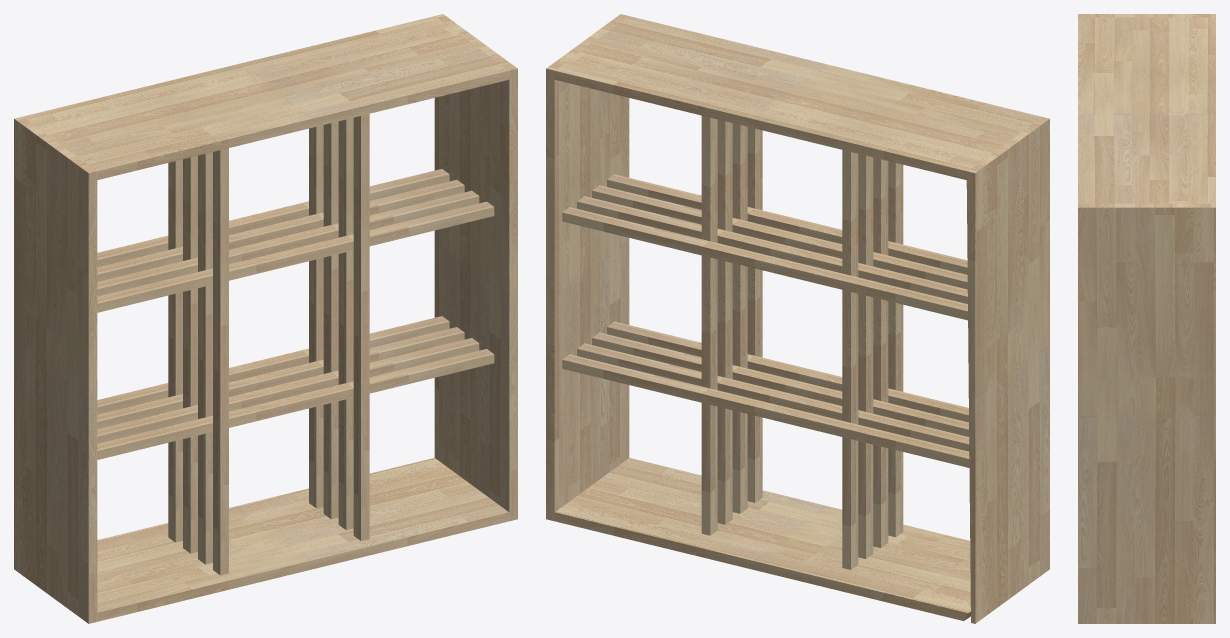
3 views of the same model, side by side, from view 1: azimuth 30°, elevation 25°; view 2: azimuth 150°, elevation 25°; view 3: azimuth 270°, elevation 25° (orthographic). The views are drawn at different scales.
Visible parts, largest first — view 1: Korpus bund_top.017; view 2: Korpus bund_top.017; view 3: Korpus bund_top.017.
Boxes of the visible parts, left/top/right/bottom form: Korpus bund_top.017: left=14, top=14, right=517, bottom=623; Korpus bund_top.017: left=546, top=14, right=1049, bottom=623; Korpus bund_top.017: left=1078, top=14, right=1215, bottom=623.
Size of the model in its own units: 0.9965 by 1 by 0.3.
Materials: 1 (1 with a texture image).
